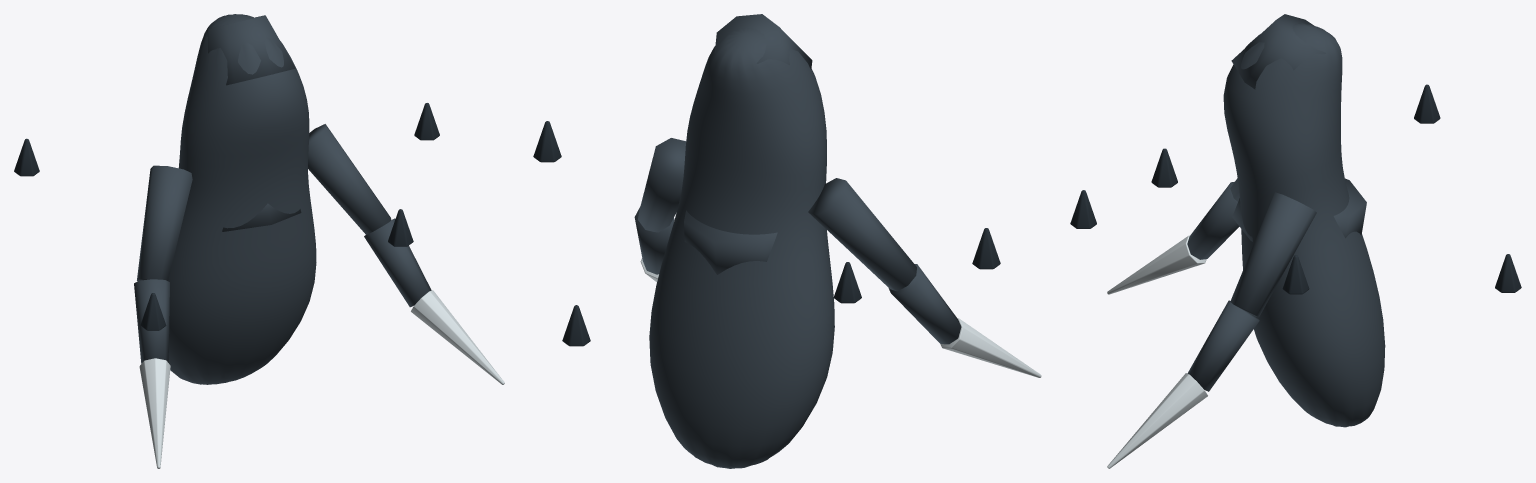
File: shade_wraith.glb
The picture shows the model from 3 angles, left to right: view 1: azimuth 30°, elevation 25°; view 2: azimuth 150°, elevation 25°; view 3: azimuth 270°, elevation 25°; orthographic projection. The views are drawn at different scales.
Visible parts, largest first — view 1: Torso, Arm_L, Arm_R, Hood, Forearm_R, Scythe_R, Forearm_L, Scythe_L, ShroudBase, orbitshard_2, orbitshard_3, orbitshard_0 (+1 smaller); view 2: Torso, Arm_L, Arm_R, ShroudBase, Forearm_L, Hood, Scythe_L, Forearm_R, orbitshard_2, orbitshard_3, orbitshard_1, orbitshard_0; view 3: Torso, Arm_R, Forearm_R, Hood, Scythe_R, Forearm_L, Scythe_L, ShroudBase, orbitshard_0, orbitshard_3, orbitshard_2, orbitshard_1 (+1 smaller).
Part boxes in pixels (<box>): Torso: <box>168,14,316,384</box>; Arm_L: <box>137,165,192,281</box>; Arm_R: <box>308,124,391,234</box>; Hood: <box>207,15,295,85</box>; Forearm_R: <box>364,218,431,307</box>; Scythe_R: <box>411,290,504,384</box>; Forearm_L: <box>134,279,169,363</box>; Scythe_L: <box>139,358,170,468</box>; ShroudBase: <box>222,203,301,231</box>; orbitshard_2: <box>14,138,39,176</box>; orbitshard_3: <box>140,293,166,330</box>; orbitshard_0: <box>414,103,439,140</box>; Torso: <box>649,27,834,468</box>; Arm_L: <box>808,178,916,291</box>; Arm_R: <box>638,138,686,232</box>; ShroudBase: <box>684,210,777,274</box>; Forearm_L: <box>888,264,961,344</box>; Hood: <box>714,14,812,69</box>; Scythe_L: <box>940,318,1041,377</box>; Forearm_R: <box>634,207,674,274</box>; orbitshard_2: <box>833,262,861,303</box>; orbitshard_3: <box>972,228,1000,269</box>; orbitshard_1: <box>562,305,590,346</box>; orbitshard_0: <box>533,121,561,162</box>; Torso: <box>1223,23,1385,427</box>; Arm_R: <box>1230,192,1316,317</box>; Forearm_R: <box>1187,300,1259,391</box>; Hood: <box>1231,14,1325,89</box>; Scythe_R: <box>1107,373,1207,468</box>; Forearm_L: <box>1187,181,1239,259</box>; Scythe_L: <box>1107,235,1206,294</box>; ShroudBase: <box>1232,178,1366,241</box>; orbitshard_0: <box>1282,255,1309,294</box>; orbitshard_3: <box>1151,148,1177,187</box>; orbitshard_2: <box>1414,84,1440,123</box>; orbitshard_1: <box>1495,254,1521,292</box>.
Bounding box in the file's own units: 1.89 × 1.88 × 1.92.
